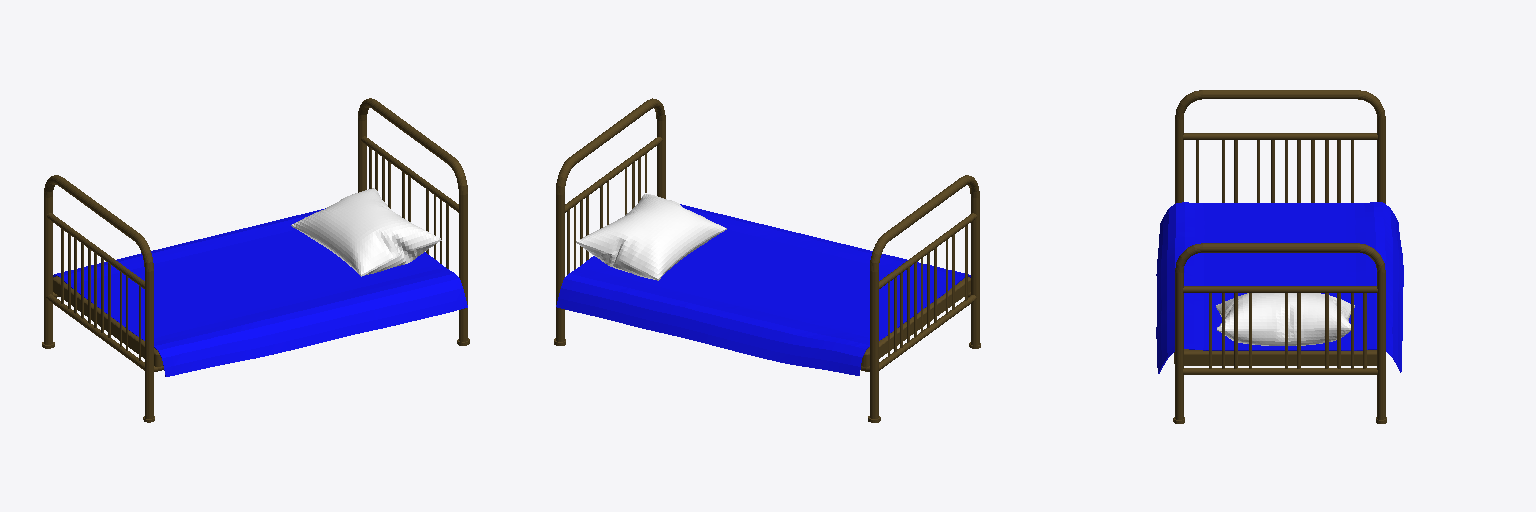
3 views of the same model, side by side, from view 1: azimuth 30°, elevation 25°; view 2: azimuth 150°, elevation 25°; view 3: azimuth 270°, elevation 25° (orthographic).
Parts seen in each view (by area): view 1: Cama:Blanket_4; view 2: Cama:Blanket_4; view 3: Cama:Blanket_4.
Boxes of the visible parts, box(x1,y1,x2,y2) form: Cama:Blanket_4: box(42, 98, 469, 422); Cama:Blanket_4: box(554, 98, 980, 422); Cama:Blanket_4: box(1156, 90, 1403, 423).
Bounding box in the file's own units: 6.1 × 3.19 × 4.02.
Materials: 3 (3 with a texture image).